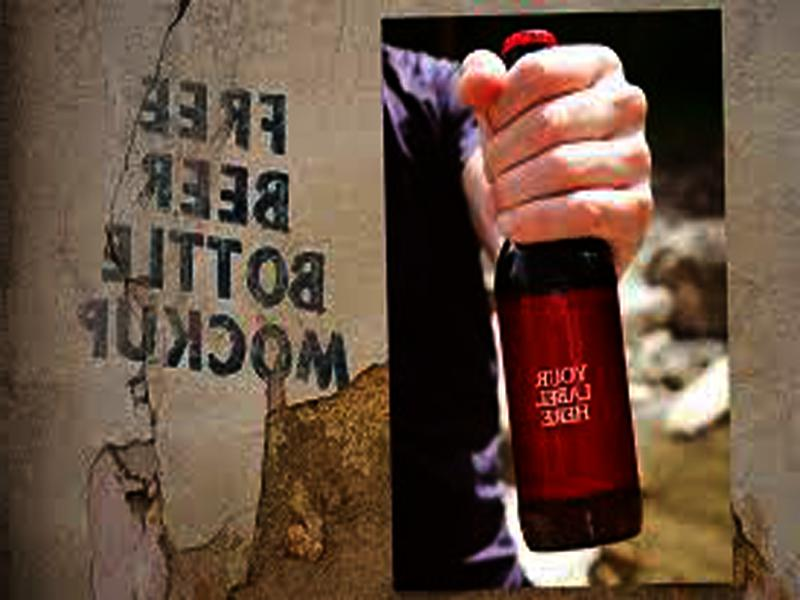Beer: (499, 30, 642, 551)
